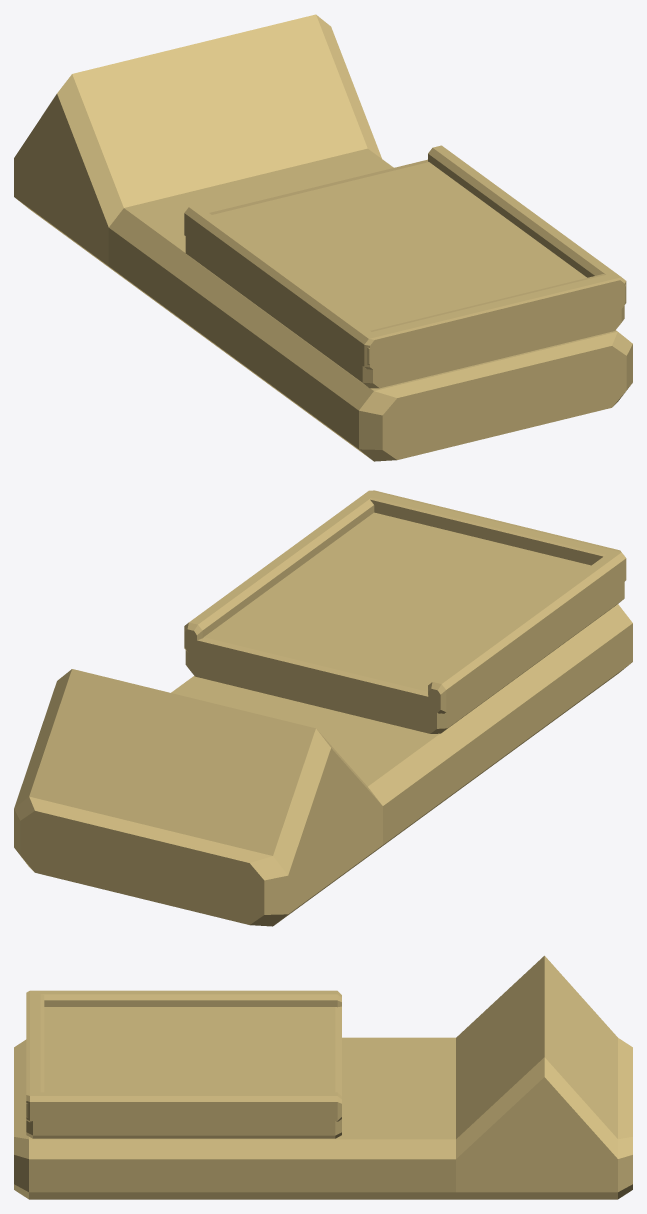
The model's file is tallow_transport_e.glb.
The picture shows the model from 3 angles, top to bottom: view 1: azimuth 30°, elevation 25°; view 2: azimuth 150°, elevation 25°; view 3: azimuth 270°, elevation 25°; orthographic projection. The views are drawn at different scales.
Visible parts, largest first — view 1: tallow_transport_e; view 2: tallow_transport_e; view 3: tallow_transport_e.
Part boxes in pixels (x1,y1,x2,y2): tallow_transport_e: (14, 14, 632, 461); tallow_transport_e: (14, 490, 632, 926); tallow_transport_e: (14, 955, 632, 1199).
Bounding box in the file's own units: 3.8 × 2.21 × 8.7.
